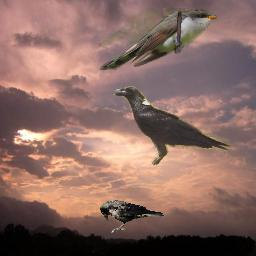Crow: (112, 86, 232, 167), (100, 200, 165, 233)
Cuckoo: (98, 8, 217, 70)
